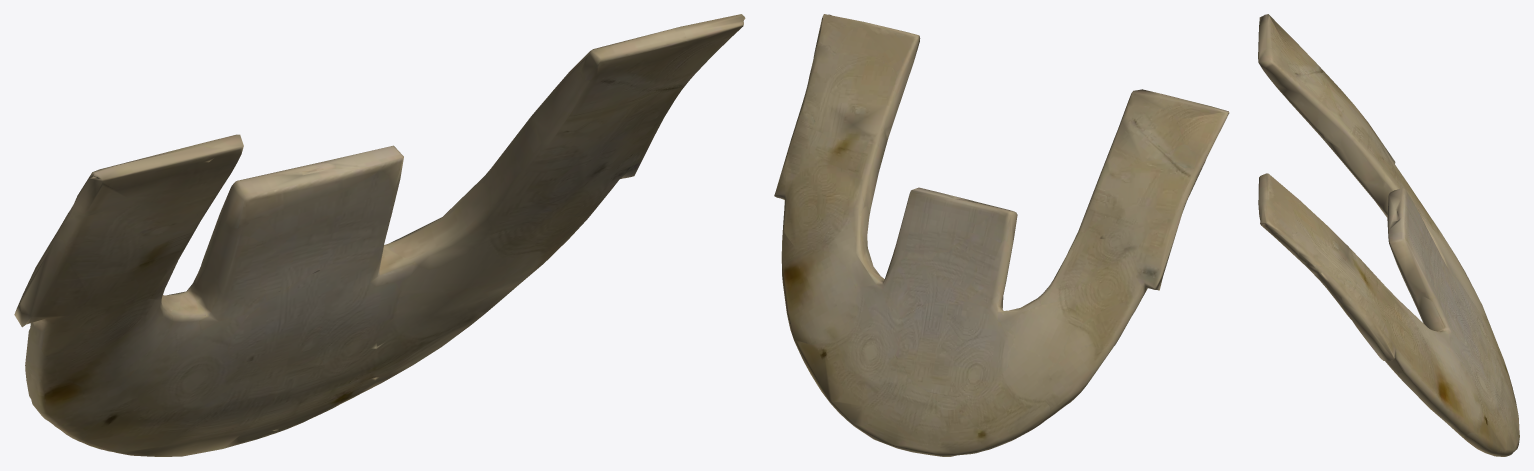
Rendered from jade-trident-a-overview.glb.
The picture shows the model from 3 angles, left to right: view 1: azimuth 30°, elevation 25°; view 2: azimuth 150°, elevation 25°; view 3: azimuth 270°, elevation 25°; orthographic projection. The views are drawn at different scales.
Visible parts, largest first — view 1: node_0; view 2: node_0; view 3: node_0.
Part boxes in pixels (x1,y1,x2,y2): node_0: [14, 14, 745, 456]; node_0: [774, 14, 1229, 456]; node_0: [1258, 14, 1519, 456].
Bounding box in the file's own units: 0.907 × 0.6506 × 0.4813.
1 material, 1 textured.
